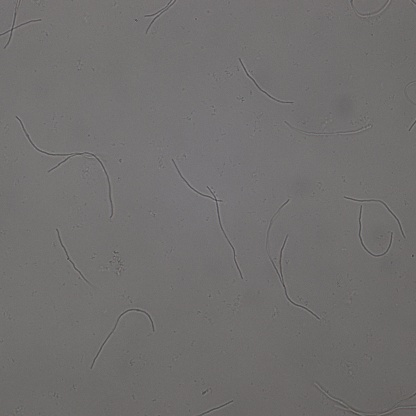Sensitive: (14, 116, 114, 219), (264, 199, 319, 320), (92, 307, 157, 367), (313, 381, 416, 415), (207, 184, 243, 278), (345, 195, 406, 237), (239, 59, 293, 104), (173, 160, 230, 202), (356, 205, 394, 259), (1, 1, 41, 51), (286, 121, 372, 141), (57, 231, 89, 282), (144, 1, 177, 38)
